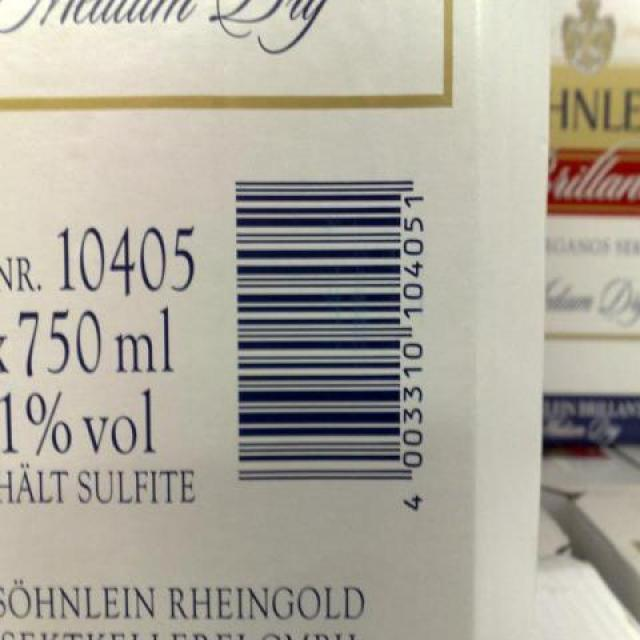Barcode: (217, 159, 444, 537)
